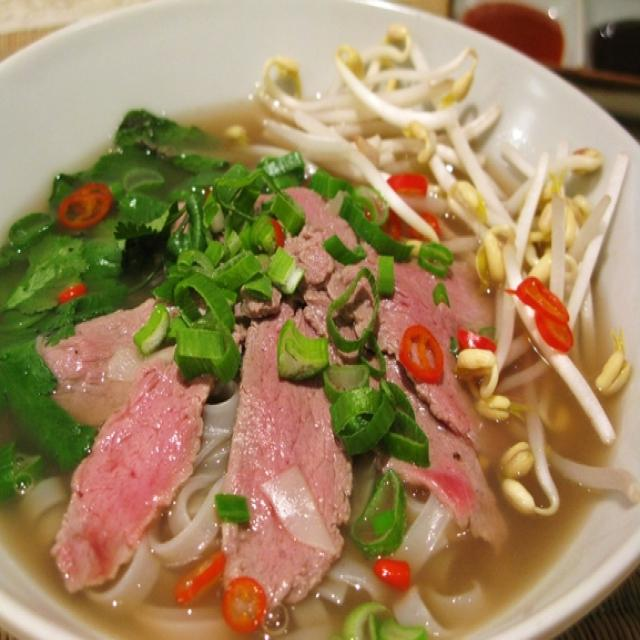面条主食: (23, 37, 629, 618)
